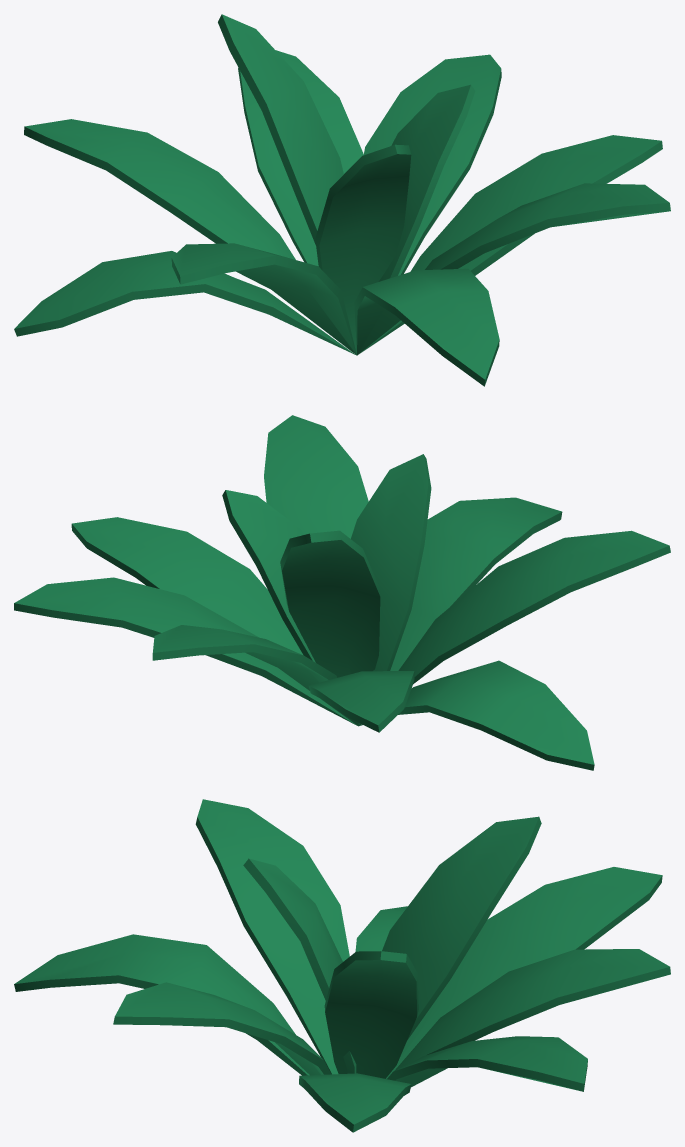
The model's file is banana_tree.obj.
3 renders of one model, top to bottom at view 1: azimuth 30°, elevation 25°; view 2: azimuth 150°, elevation 25°; view 3: azimuth 270°, elevation 25°, orthographic. The views are drawn at different scales.
Visible parts, largest first — view 1: pasted__group2 pasted__pPlane16, pasted__group2 pasted__pPlane20, pasted__group2 pasted__pPlane13, pasted__group2 pasted__pPlane21, pasted__pPlane11 pasted__group2, pasted__group2 pasted__pPlane15, pasted__group2 pasted__pPlane18, pasted__group2 pasted__pPlane14, pasted__group2 pasted__pPlane12, pasted__group2 pasted__pPlane17, pasted__group2 pasted__pPlane19; view 2: pasted__group2 pasted__pPlane14, pasted__pPlane11 pasted__group2, pasted__group2 pasted__pPlane21, pasted__group2 pasted__pPlane15, pasted__group2 pasted__pPlane13, pasted__group2 pasted__pPlane18, pasted__group2 pasted__pPlane20, pasted__group2 pasted__pPlane12, pasted__group2 pasted__pPlane19, pasted__group2 pasted__pPlane17, pasted__group2 pasted__pPlane16; view 3: pasted__group2 pasted__pPlane14, pasted__group2 pasted__pPlane16, pasted__group2 pasted__pPlane21, pasted__group2 pasted__pPlane17, pasted__group2 pasted__pPlane13, pasted__group2 pasted__pPlane19, pasted__group2 pasted__pPlane12, pasted__group2 pasted__pPlane18, pasted__group2 pasted__pPlane20, pasted__pPlane11 pasted__group2, pasted__group2 pasted__pPlane15.
Part boxes in pixels (x1=…): pasted__group2 pasted__pPlane16: x1=24, y1=119, x2=295, y2=259; pasted__group2 pasted__pPlane20: x1=315, y1=144, x2=411, y2=354; pasted__group2 pasted__pPlane13: x1=354, y1=268, x2=499, y2=386; pasted__group2 pasted__pPlane21: x1=218, y1=14, x2=343, y2=244; pasted__pPlane11 pasted__group2: x1=359, y1=135, x2=662, y2=353; pasted__group2 pasted__pPlane15: x1=14, y1=251, x2=355, y2=354; pasted__group2 pasted__pPlane18: x1=364, y1=54, x2=501, y2=275; pasted__group2 pasted__pPlane14: x1=171, y1=243, x2=356, y2=355; pasted__group2 pasted__pPlane12: x1=425, y1=183, x2=670, y2=269; pasted__group2 pasted__pPlane17: x1=238, y1=50, x2=363, y2=266; pasted__group2 pasted__pPlane19: x1=378, y1=84, x2=475, y2=281; pasted__group2 pasted__pPlane14: x1=359, y1=530, x2=670, y2=725; pasted__pPlane11 pasted__group2: x1=71, y1=517, x2=302, y2=654; pasted__group2 pasted__pPlane21: x1=280, y1=530, x2=380, y2=677; pasted__group2 pasted__pPlane15: x1=359, y1=660, x2=594, y2=770; pasted__group2 pasted__pPlane13: x1=390, y1=497, x2=562, y2=670; pasted__group2 pasted__pPlane18: x1=14, y1=577, x2=356, y2=725; pasted__group2 pasted__pPlane20: x1=351, y1=454, x2=431, y2=671; pasted__group2 pasted__pPlane12: x1=264, y1=415, x2=368, y2=538; pasted__group2 pasted__pPlane19: x1=222, y1=490, x2=315, y2=662; pasted__group2 pasted__pPlane17: x1=152, y1=625, x2=355, y2=724; pasted__group2 pasted__pPlane16: x1=308, y1=671, x2=414, y2=732; pasted__group2 pasted__pPlane14: x1=195, y1=799, x2=349, y2=1074; pasted__group2 pasted__pPlane16: x1=386, y1=867, x2=662, y2=1078; pasted__group2 pasted__pPlane21: x1=382, y1=816, x2=541, y2=1040; pasted__group2 pasted__pPlane17: x1=394, y1=949, x2=670, y2=1070; pasted__group2 pasted__pPlane13: x1=14, y1=934, x2=309, y2=1075; pasted__group2 pasted__pPlane19: x1=324, y1=951, x2=418, y2=1078; pasted__group2 pasted__pPlane12: x1=113, y1=982, x2=330, y2=1075; pasted__group2 pasted__pPlane18: x1=387, y1=1036, x2=587, y2=1091; pasted__group2 pasted__pPlane20: x1=243, y1=858, x2=356, y2=1073; pasted__pPlane11 pasted__group2: x1=299, y1=1073, x2=411, y2=1132; pasted__group2 pasted__pPlane15: x1=355, y1=906, x2=407, y2=951.
Size of the model in its own units: 2.81 by 1.26 by 2.69.
